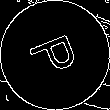P_E: (24, 29, 86, 81)
